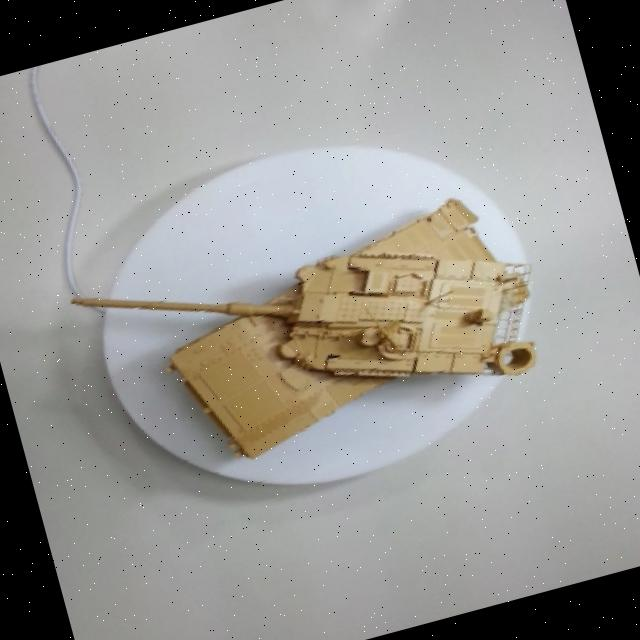korea tank: (39, 116, 600, 538)
